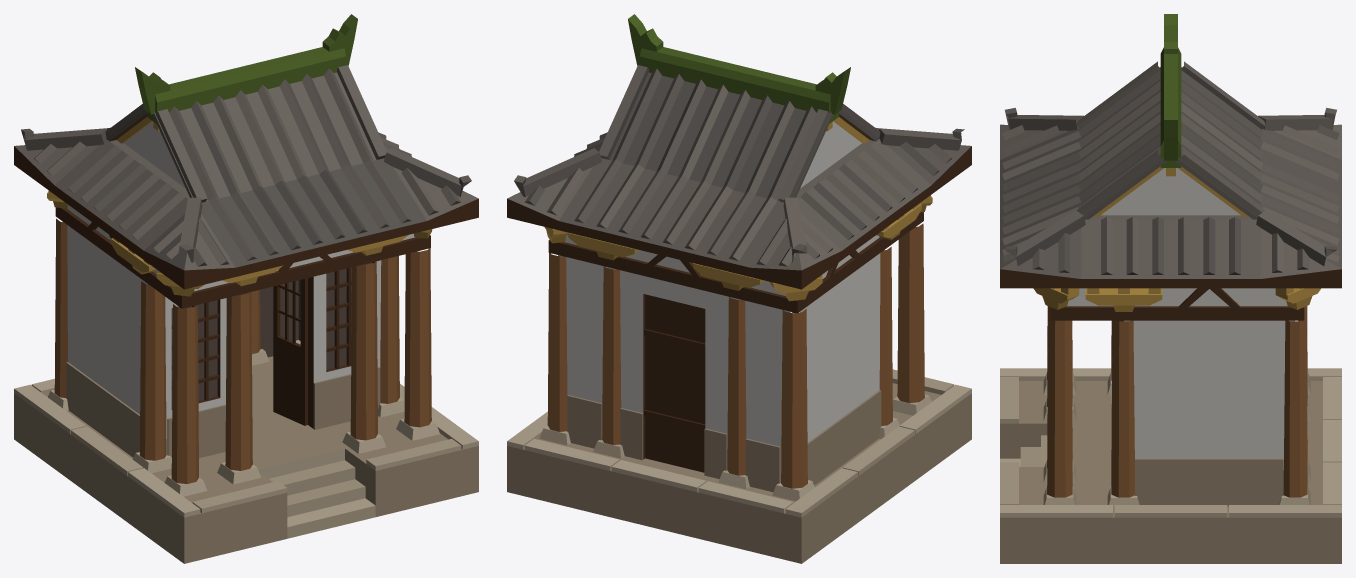
File: ancestral-shrine-de7ed2.glb
3 views of the same model, side by side, from view 1: azimuth 30°, elevation 25°; view 2: azimuth 150°, elevation 25°; view 3: azimuth 270°, elevation 25° (orthographic).
Parts seen in each view (by area): view 1: shrine-body, door-right-mesh; view 2: shrine-body; view 3: shrine-body.
Boxes of the visible parts, x1,y1,x2,y2 form: shrine-body: (14,14,478,563); door-right-mesh: (273,278,307,425); shrine-body: (507,14,971,563); shrine-body: (1000,14,1341,563).
Size of the model in its own units: 4 by 5.49 by 4.
